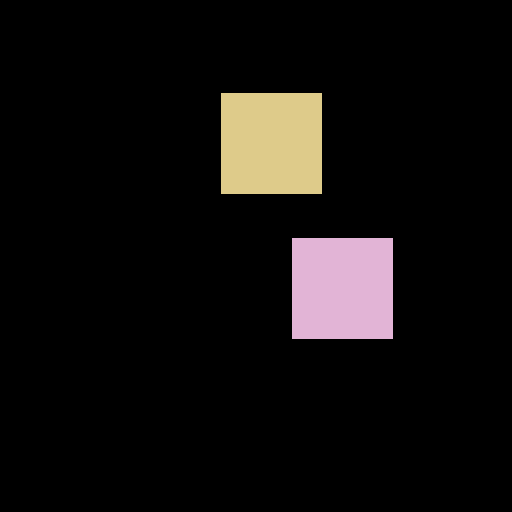square: (292, 238, 392, 338), (221, 93, 321, 193)
